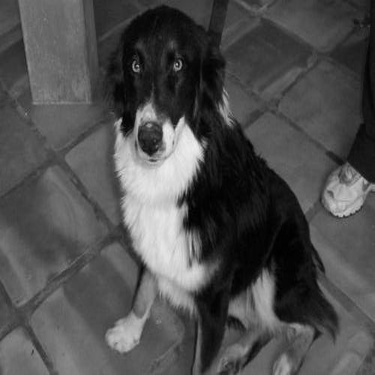dog: (97, 2, 341, 372)
